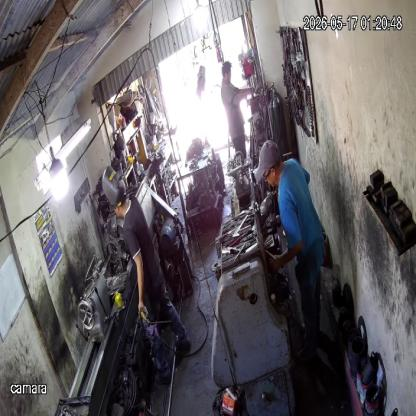lentes: (263, 165, 274, 181)
